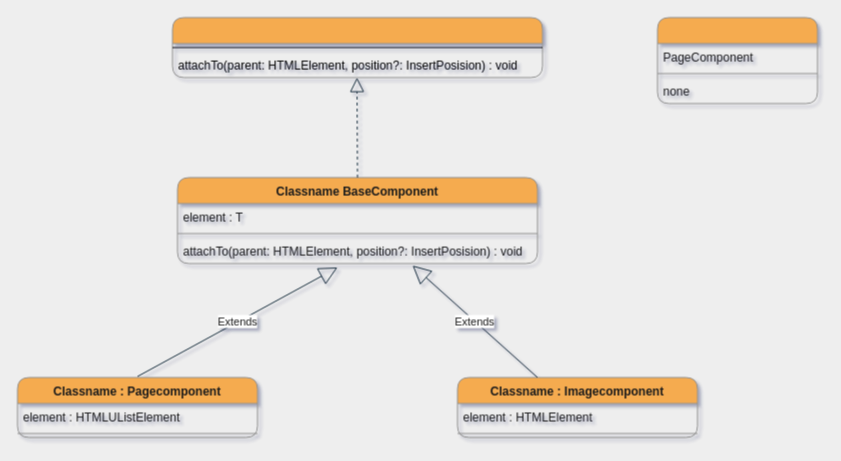
The diagram is 841 pixels wide and 461 high, and some of its shapes have lost their labels. The shapes that lost their labels are listed below. From the top down, each one's box as (x1, y1, x2, y2) in pixels, then its label:
(172, 16, 542, 78): Interface
(656, 16, 818, 104): Classname : App
